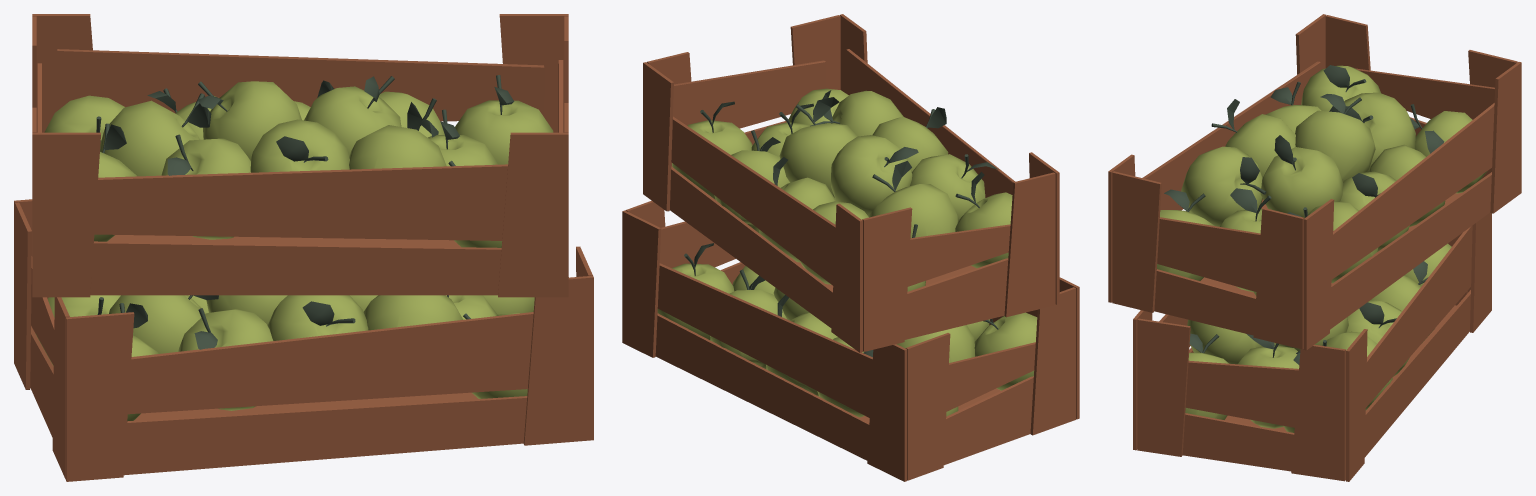
3 views of the same model, side by side, from view 1: azimuth 30°, elevation 25°; view 2: azimuth 150°, elevation 25°; view 3: azimuth 270°, elevation 25° (orthographic). The views are drawn at different scales.
Parts seen in each view (by area): view 1: Box014, Box014.001, Line077, Line077.001, Object031, Object031.001; view 2: Box014, Box014.001, Line077, Line077.001, Object031, Object031.001; view 3: Box014, Box014.001, Line077, Line077.001, Object031, Object031.001.
Boxes of the visible parts, x1=… form: Box014: x1=32, y1=14, x2=568, y2=297; Box014.001: x1=14, y1=199, x2=593, y2=481; Line077: x1=44, y1=81, x2=553, y2=247; Line077.001: x1=35, y1=295, x2=534, y2=421; Object031: x1=96, y1=75, x2=514, y2=175; Object031.001: x1=97, y1=295, x2=470, y2=349; Box014: x1=643, y1=14, x2=1059, y2=352; Box014.001: x1=622, y1=200, x2=1079, y2=481; Line077: x1=672, y1=88, x2=1012, y2=291; Line077.001: x1=657, y1=263, x2=1037, y2=417; Object031: x1=700, y1=90, x2=998, y2=237; Object031.001: x1=684, y1=243, x2=998, y2=357; Box014: x1=1108, y1=14, x2=1521, y2=350; Box014.001: x1=1133, y1=213, x2=1491, y2=481; Line077: x1=1157, y1=65, x2=1487, y2=295; Line077.001: x1=1185, y1=243, x2=1451, y2=432; Object031: x1=1164, y1=65, x2=1444, y2=221; Object031.001: x1=1189, y1=261, x2=1427, y2=364.
Bounding box in the file's own units: 292 × 174 × 248.
